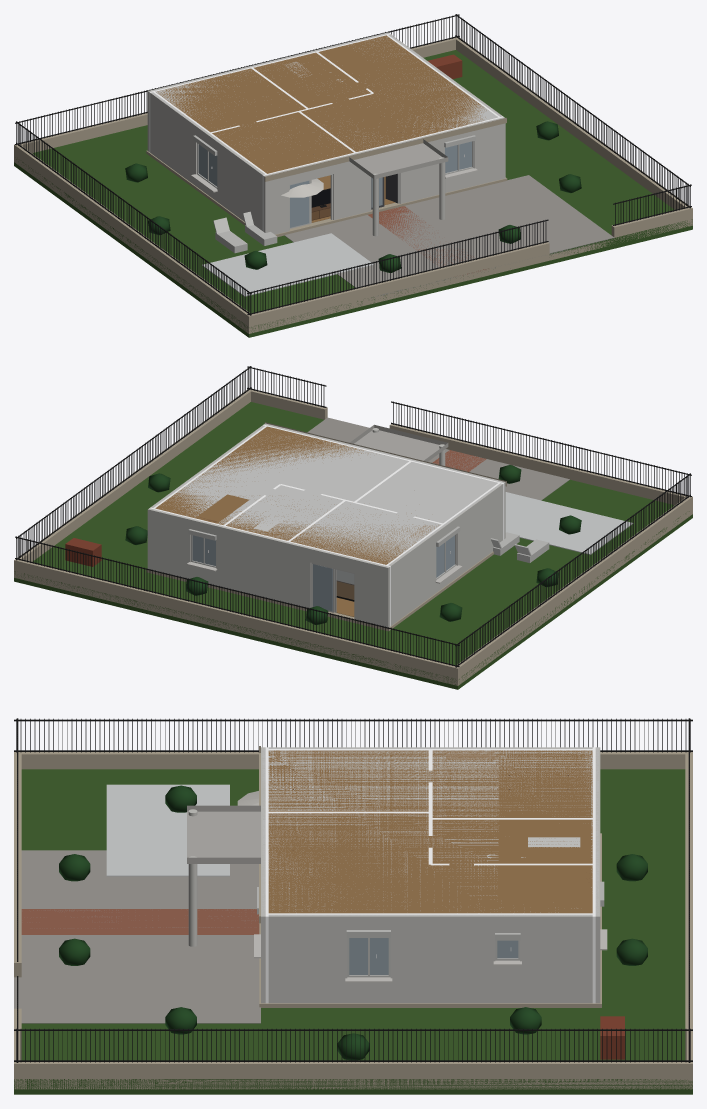
The model's file is bina_12_ic.glb.
The picture shows the model from 3 angles, top to bottom: view 1: azimuth 30°, elevation 25°; view 2: azimuth 150°, elevation 25°; view 3: azimuth 270°, elevation 25°; orthographic projection. The views are drawn at different scales.
Parts seen in each view (by area): view 1: P12_ic; view 2: P12_ic; view 3: P12_ic.
Part boxes in pixels (box(x1,y1,x2,y2)): P12_ic: box(14, 14, 692, 337); P12_ic: box(14, 366, 692, 689); P12_ic: box(14, 718, 692, 1094).
Size of the model in its own units: 24 by 5.33 by 22.
